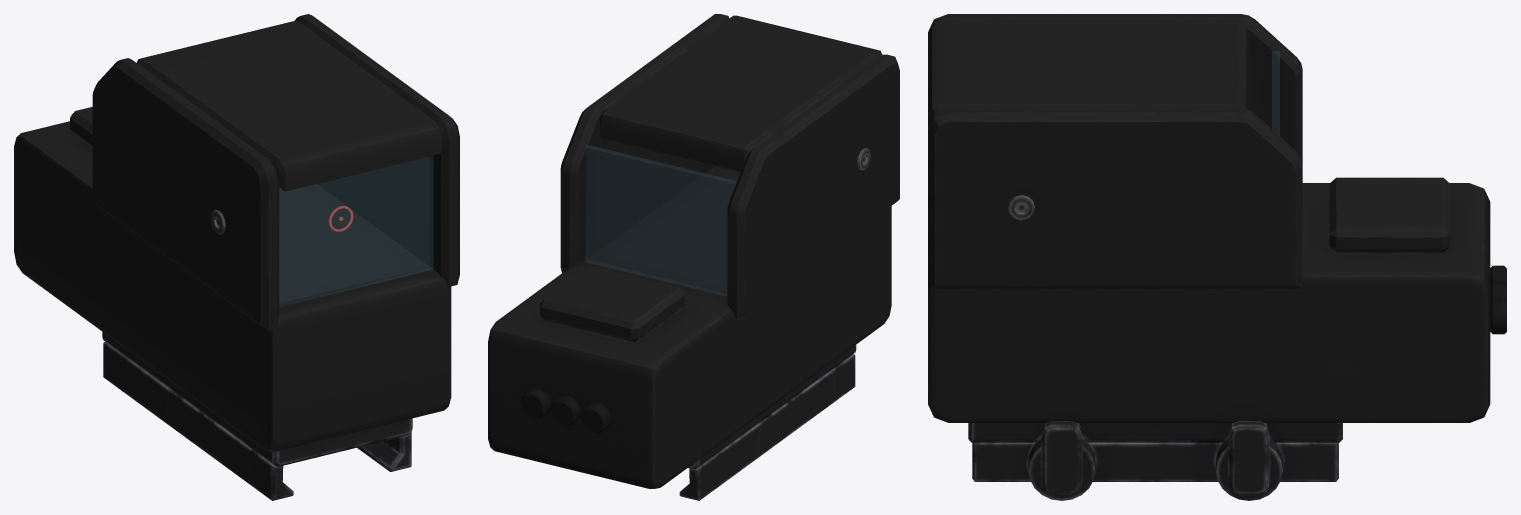
The model's file is Optic_Holo.fbx.
3 renders of one model, left to right at view 1: azimuth 30°, elevation 25°; view 2: azimuth 150°, elevation 25°; view 3: azimuth 270°, elevation 25°, orthographic. The views are drawn at different scales.
Visible parts, largest first — view 1: Body, Lens_Front; view 2: Body, Lens_Rear; view 3: Body, Lens_Rear.
Boxes of the visible parts, x1,y1,x2,y2 form: Body: (14,14,459,500); Lens_Front: (279,155,433,306); Body: (488,14,899,500); Lens_Rear: (585,145,736,296); Body: (928,14,1506,500); Lens_Rear: (1272,51,1279,135).
Bounding box in the file's own units: 0.0382 × 0.0645 × 0.0865.
